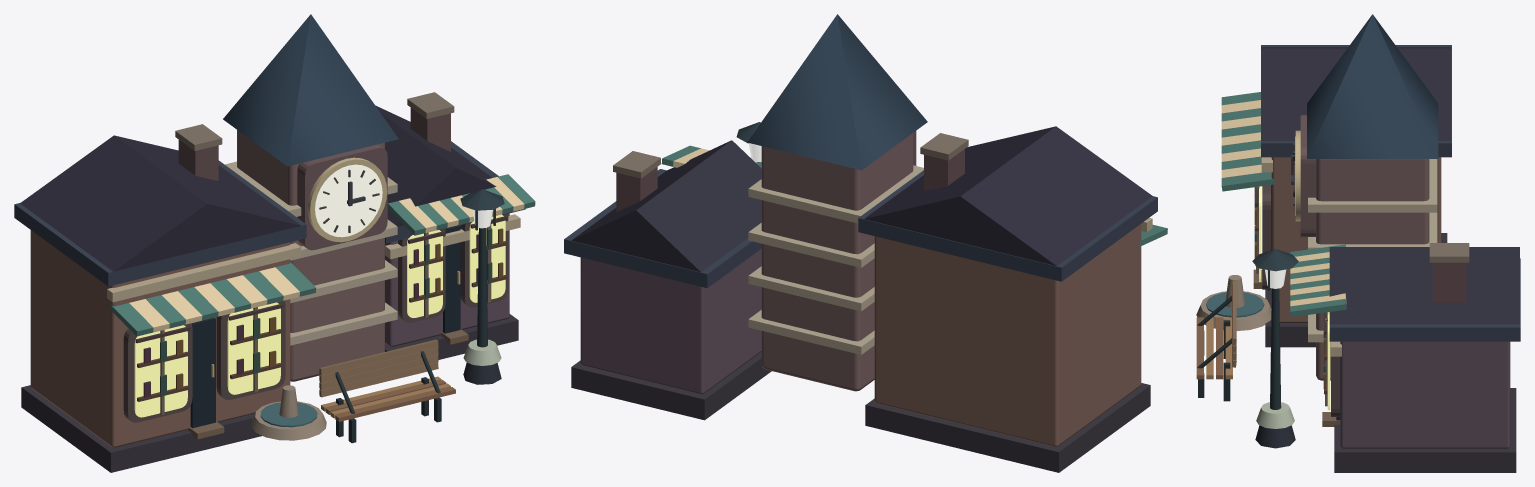
Rendered from oldtown-map.glb.
3 views of the same model, side by side, from view 1: azimuth 30°, elevation 25°; view 2: azimuth 150°, elevation 25°; view 3: azimuth 270°, elevation 25° (orthographic). The views are drawn at different scales.
Visible parts, largest first — view 1: shopfront, place-static; view 2: place-static, shopfront; view 3: place-static, shopfront.
Boxes of the visible parts, x1=… form: shopfront: x1=14, y1=124, x2=316, y2=472; place-static: x1=223, y1=14, x2=535, y2=443; place-static: x1=564, y1=14, x2=927, y2=420; shopfront: x1=858, y1=126, x2=1167, y2=472; place-static: x1=1196, y1=14, x2=1520, y2=472; shopfront: x1=1221, y1=45, x2=1451, y2=347.
Size of the model in its own units: 6.56 by 4.98 by 4.01.
